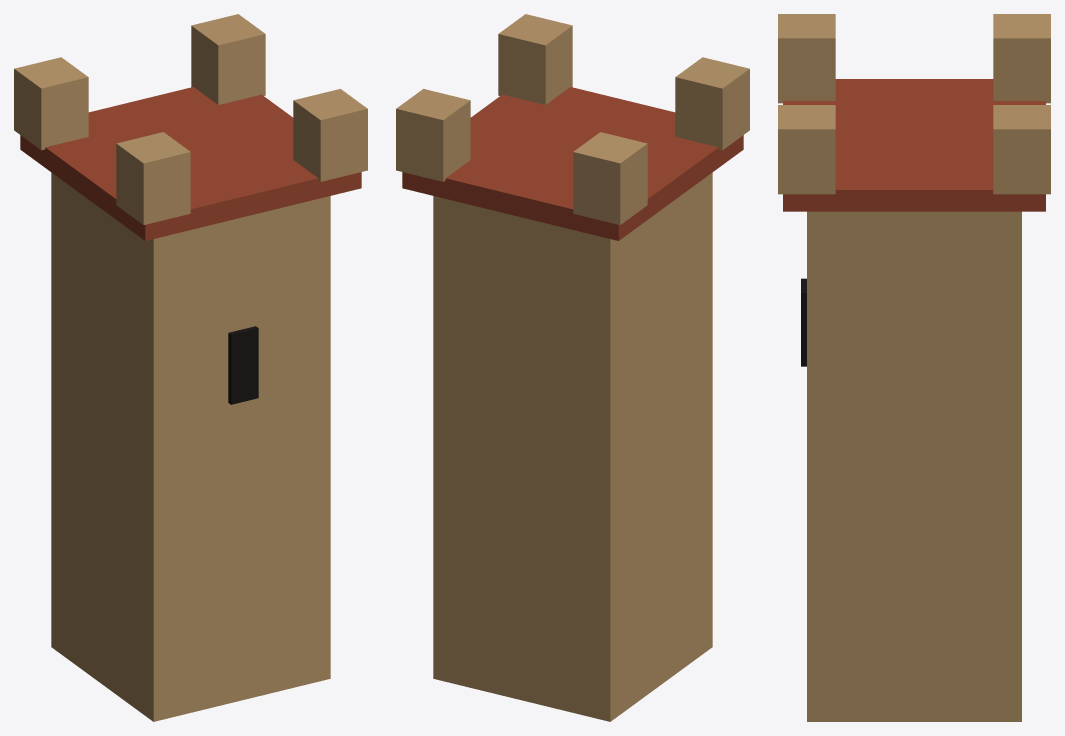
Rendered from cat_tower.glb.
3 renders of one model, left to right at view 1: azimuth 30°, elevation 25°; view 2: azimuth 150°, elevation 25°; view 3: azimuth 270°, elevation 25°, orthographic. The views are drawn at different scales.
Parts seen in each view (by area): view 1: cat_tower; view 2: cat_tower; view 3: cat_tower.
Boxes of the visible parts, x1,y1,x2,y2 form: cat_tower: (14,14,367,721); cat_tower: (396,14,749,721); cat_tower: (778,14,1050,721).
Size of the model in its own units: 1.14 by 2.79 by 1.14.
